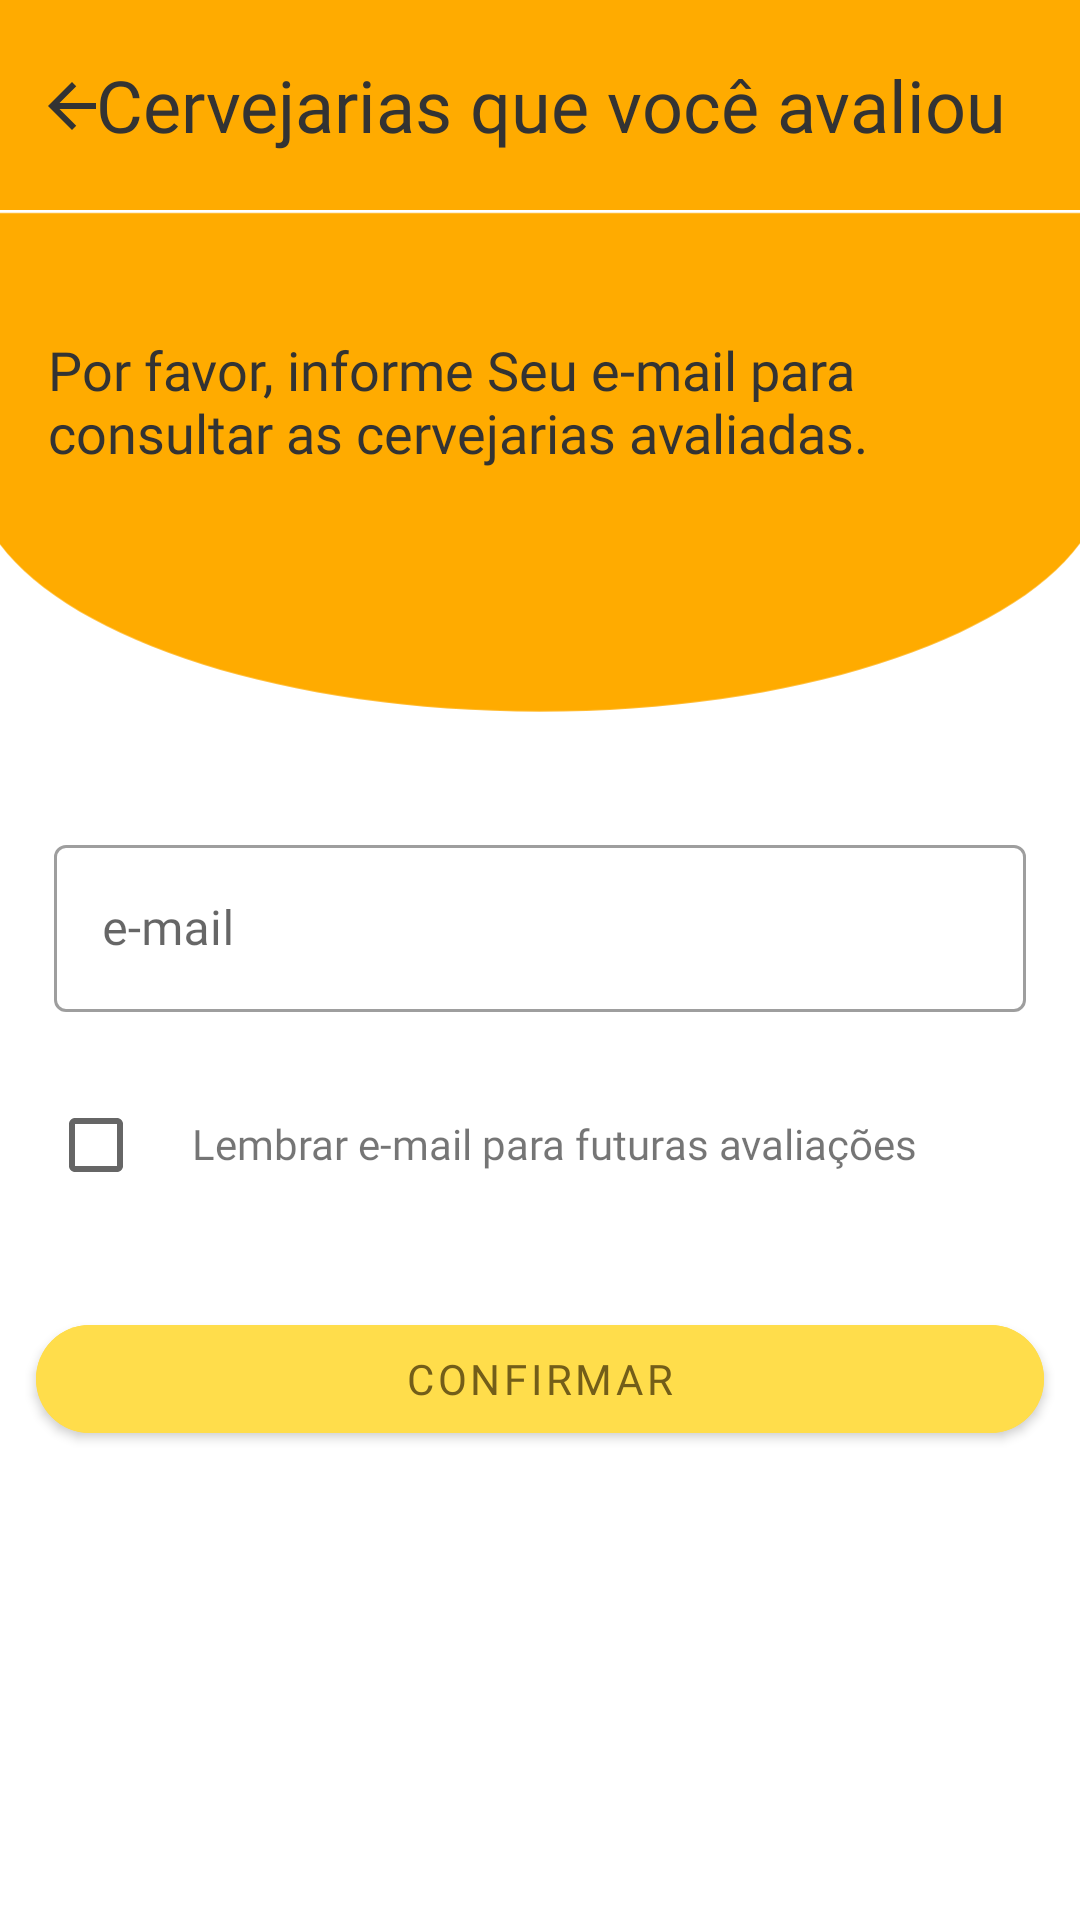

Icons on this 1080*1920 Android screen, each with its box as (x1, y1, x2, y2):
back: (48, 82, 96, 130)
